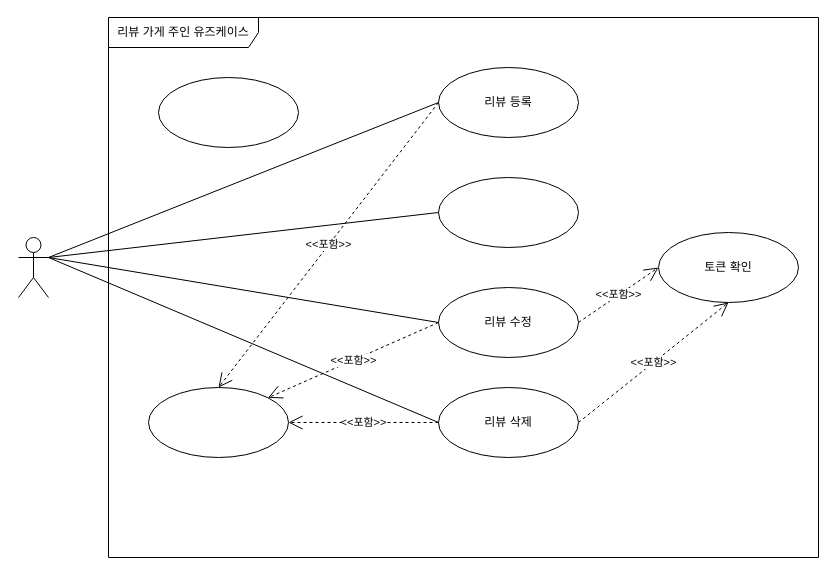
The diagram is 836 pixels wide and 575 high, and some of its shapes have lost their labels. Each missing label, with the centre of its shape:
owner: point (33, 267)
로그인: point (218, 422)
리뷰 조회: point (508, 212)
